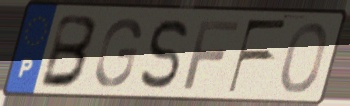B: (37, 12, 100, 90)
F: (226, 18, 291, 96), (180, 19, 242, 92)
G: (92, 16, 143, 90)
O: (279, 20, 329, 95)
S: (137, 17, 190, 92)
